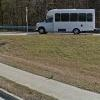Bus: (43, 5, 96, 33)
